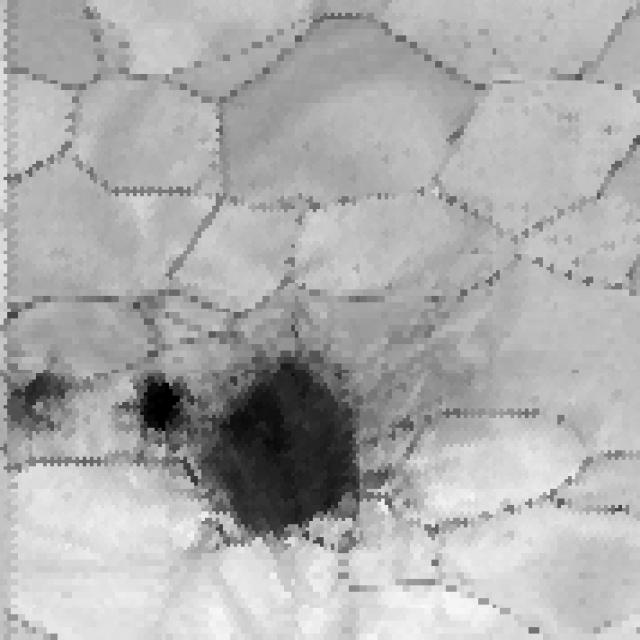good_void: (116, 343, 404, 563), (0, 366, 101, 447)
